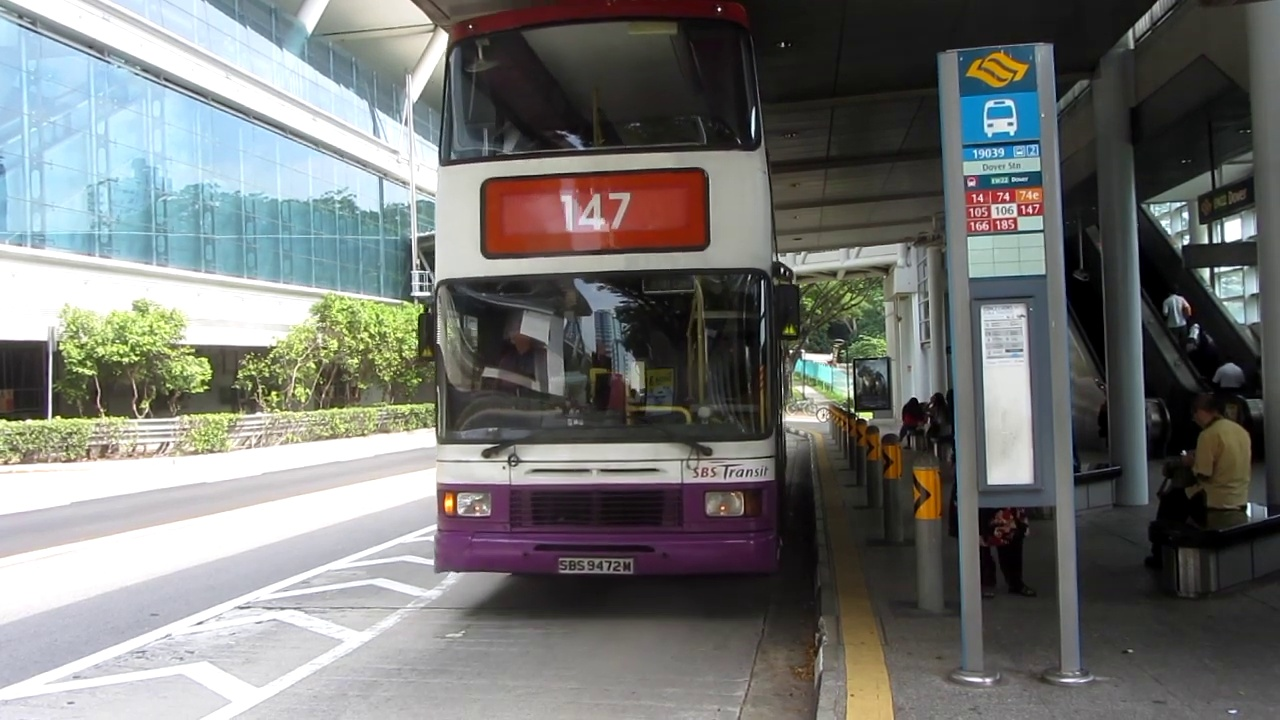bus panel: (477, 165, 716, 262)
